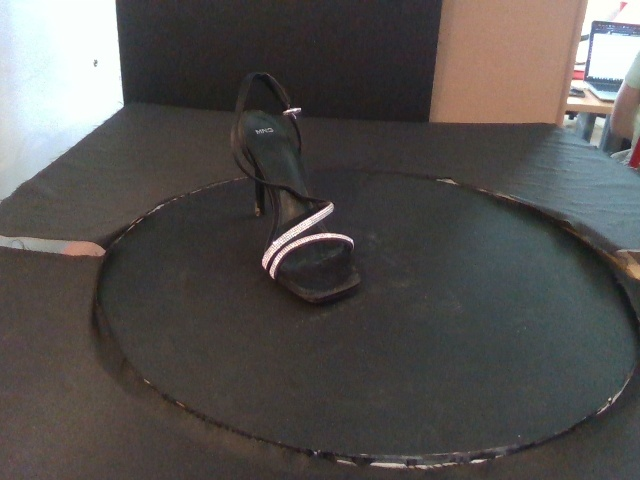shoe: (229, 71, 363, 303)
